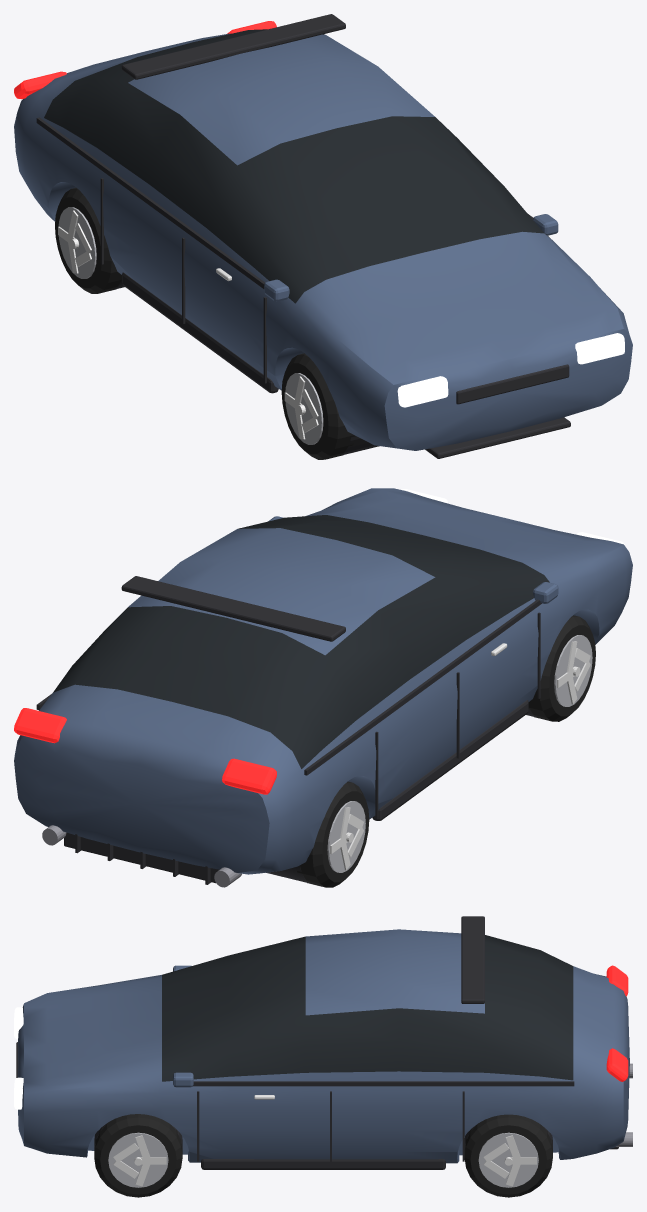
File: golf.glb
The picture shows the model from 3 angles, top to bottom: view 1: azimuth 30°, elevation 25°; view 2: azimuth 150°, elevation 25°; view 3: azimuth 270°, elevation 25°; orthographic projection. The views are drawn at different scales.
Visible parts, largest first — view 1: body, wheel_fr, wheel_rr, spoiler, head, sill, belt_trim, grille, splitter, tail, mirror; view 2: body, wheel_rr, wheel_fr, spoiler, tail, sill, belt_trim, diffuser; view 3: body, wheel_fl, wheel_rl, sill, belt_trim, spoiler, tail, head.
Part boxes in pixels (x1,y1,x2,y2): body: (14,29,632,450); wheel_fr: (281,353,355,459); wheel_rr: (55,187,121,293); spoiler: (121,14,345,79); head: (397,333,624,407); sill: (122,272,278,393); belt_trim: (36,117,533,288); grille: (456,364,569,404); splitter: (425,417,570,458); tail: (14,21,276,99); mirror: (264,214,558,301); body: (14,488,632,874); wheel_rr: (297,781,369,887); wheel_fr: (528,615,595,721); spoiler: (121,576,345,641); tail: (14,708,276,794); sill: (372,700,528,820); belt_trim: (36,599,541,775); diffuser: (64,832,219,883); body: (18,929,629,1163); wheel_fl: (94,1114,182,1197); wheel_rl: (464,1114,552,1197); sill: (201,1159,445,1169); belt_trim: (193,1081,574,1086); spoiler: (461,916,484,1003); tail: (606,965,628,1081); head: (14,1007,23,1109).
Size of the model in its own units: 1.82 by 1.42 by 4.2.
